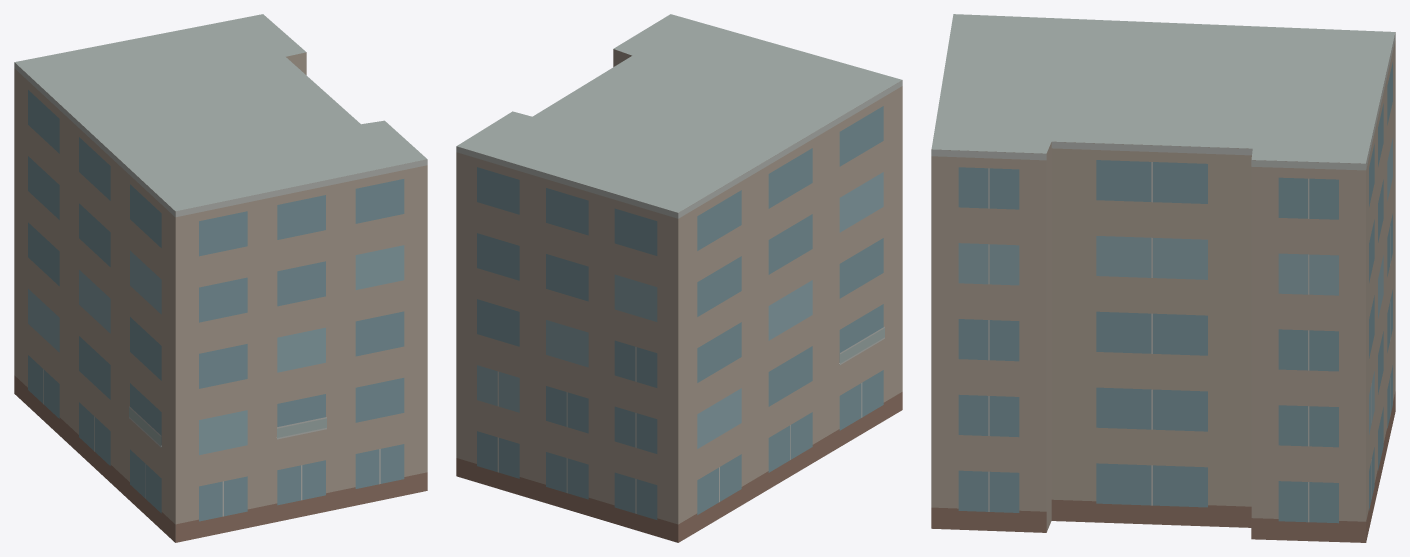
File: survey-upis-32943779.glb
3 views of the same model, side by side, from view 1: azimuth 30°, elevation 25°; view 2: azimuth 150°, elevation 25°; view 3: azimuth 270°, elevation 25° (orthographic). The views are drawn at different scales.
Parts seen in each view (by area): view 1: survey-upis-32943779.tmp; view 2: survey-upis-32943779.tmp; view 3: survey-upis-32943779.tmp.
Boxes of the visible parts, bbox=[...] form: survey-upis-32943779.tmp: bbox=[14, 14, 427, 542]; survey-upis-32943779.tmp: bbox=[456, 14, 902, 542]; survey-upis-32943779.tmp: bbox=[931, 14, 1395, 542].
Bounding box in the file's own units: 11.47 × 13.55 × 15.04.
